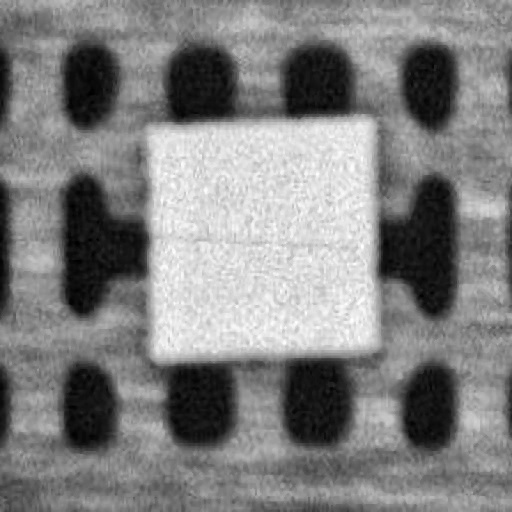DIE_CRACK: (228, 155, 512, 163)
